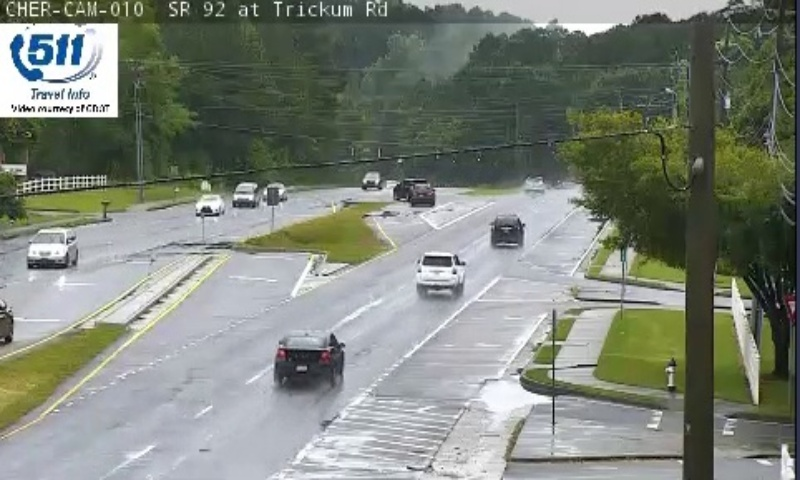car: (273, 330, 343, 377), (414, 252, 464, 288), (489, 214, 522, 247)
